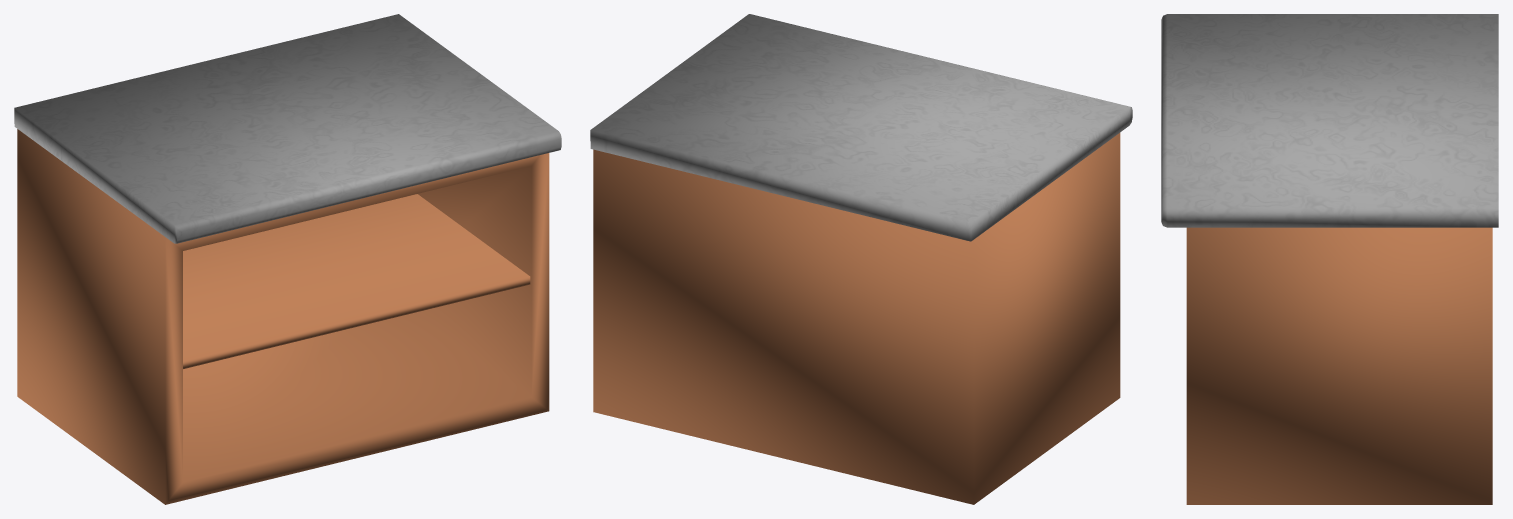
File: 2Doors.dae
The picture shows the model from 3 angles, left to right: view 1: azimuth 30°, elevation 25°; view 2: azimuth 150°, elevation 25°; view 3: azimuth 270°, elevation 25°; orthographic projection. The views are drawn at different scales.
Visible parts, largest first — view 1: 2Door; view 2: 2Door; view 3: 2Door.
Part boxes in pixels (left/top/right/bottom): 2Door: left=14, top=14, right=561, bottom=504; 2Door: left=590, top=14, right=1132, bottom=504; 2Door: left=1161, top=14, right=1498, bottom=504.
Size of the model in its own units: 1.33 by 0.9767 by 0.9664.
1 material, 1 textured.
